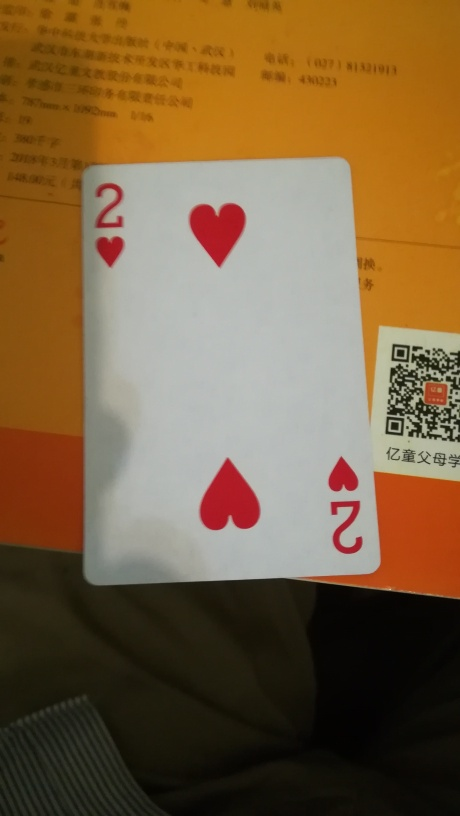hx 2: (81, 154, 384, 587)
